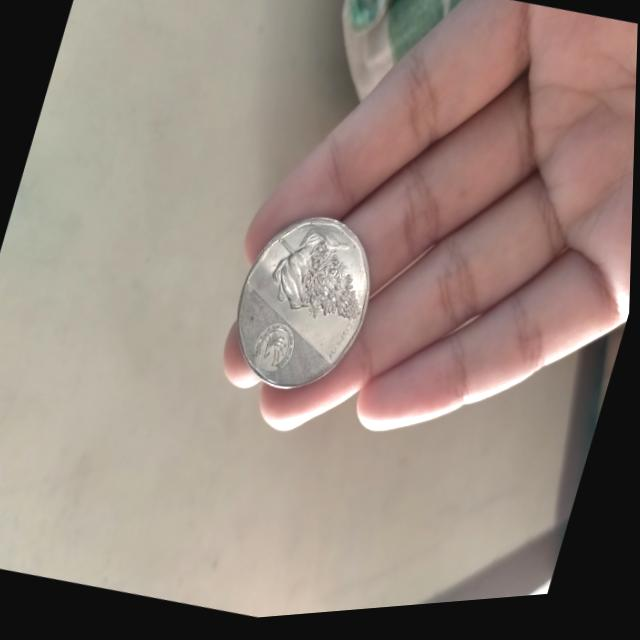10_New_Back: (247, 213, 390, 348)
